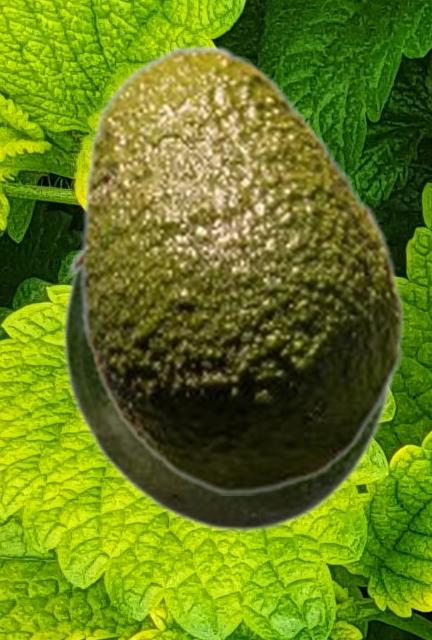avocado: (66, 44, 405, 494), (61, 248, 395, 533)
